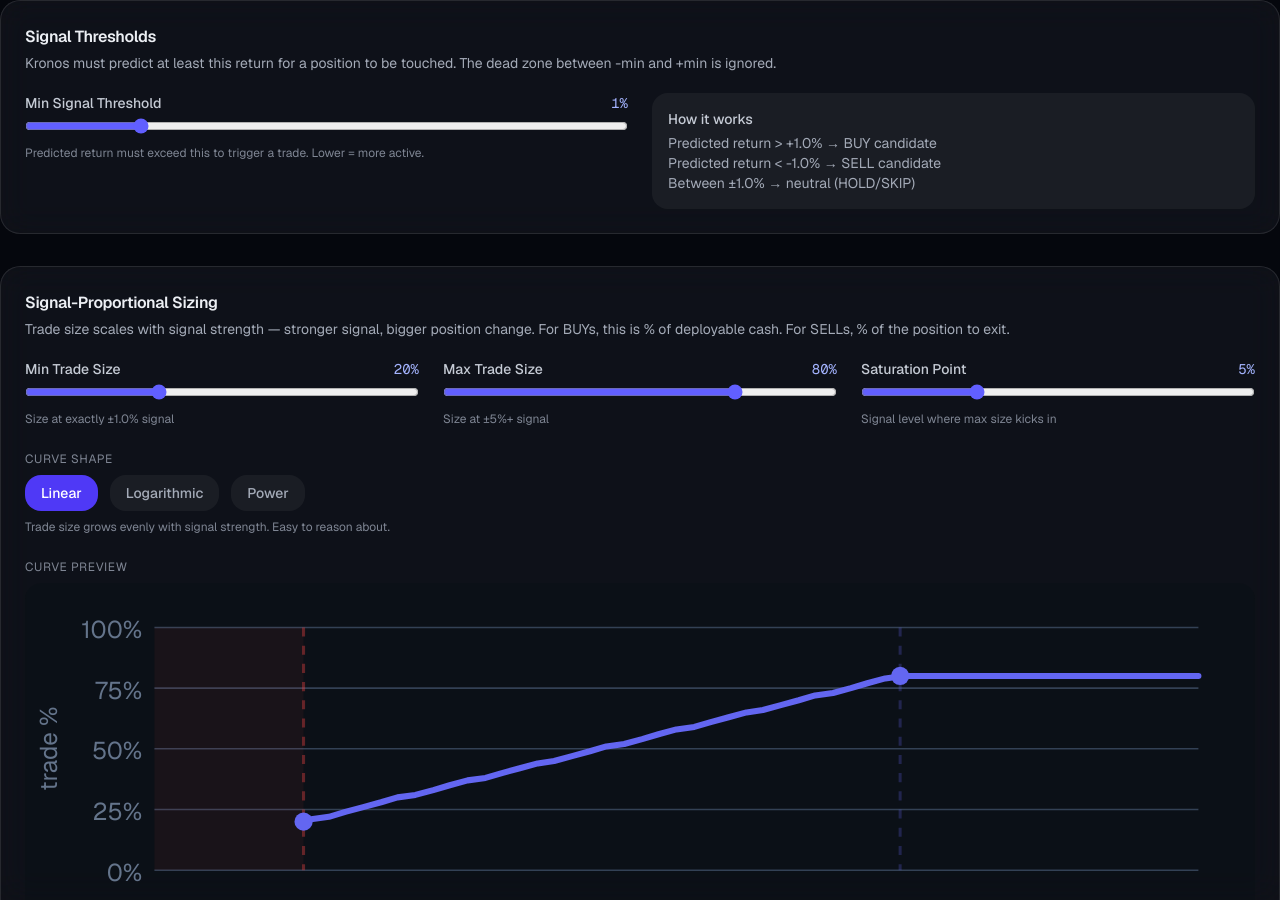
Test: KronosTunePanel › shows save bar after changing curve type
Click the button "Logarithmic" at (165, 493), box x1=110 y1=475 x2=219 y2=511
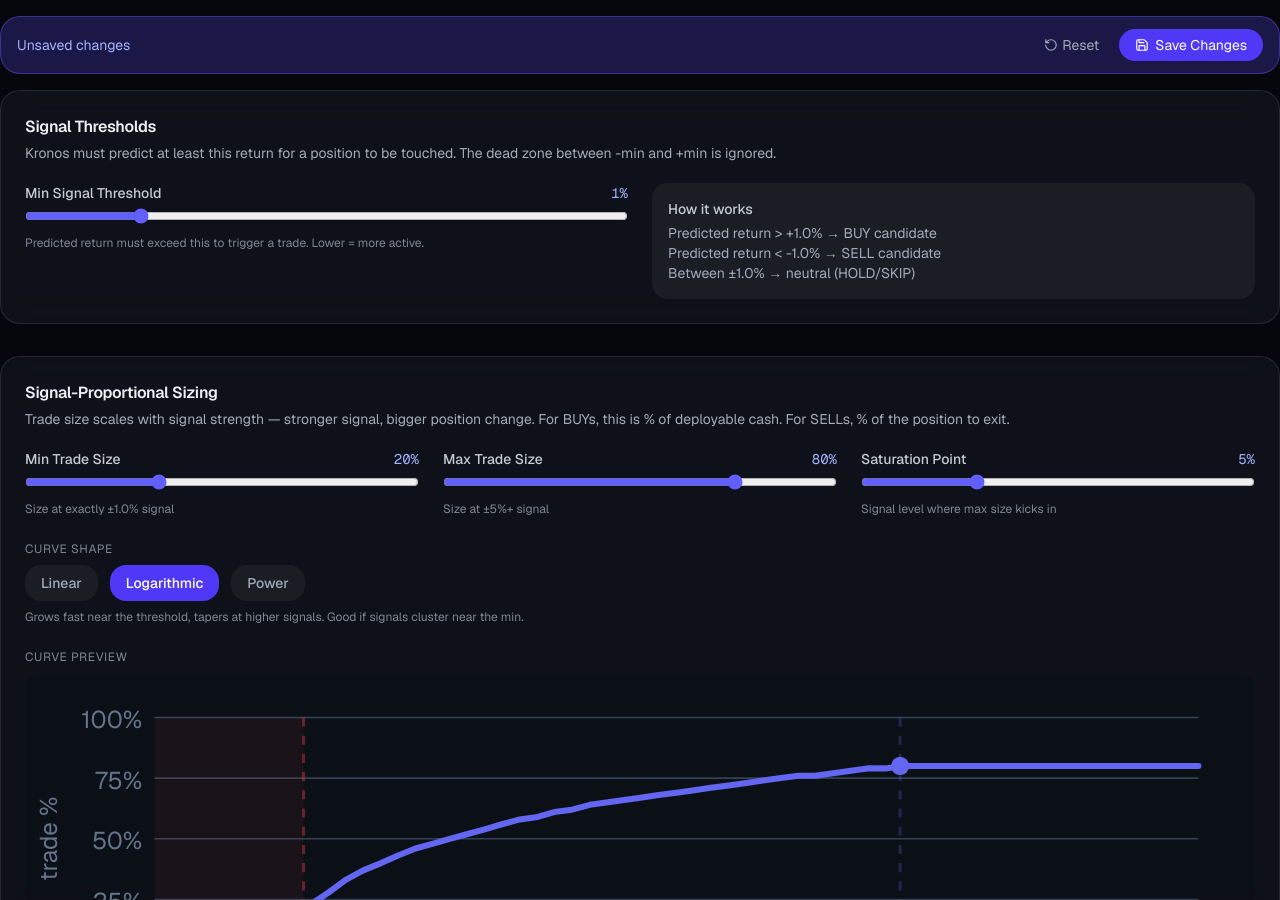
Check: the text "Unsaved changes" is shown, box x1=17 y1=35 x2=130 y2=55
